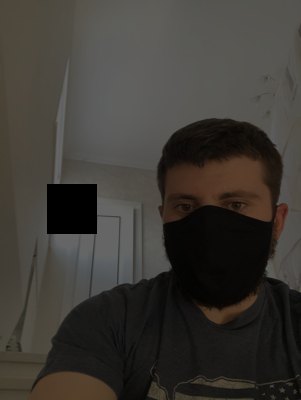with_mask: (161, 177, 274, 311)
